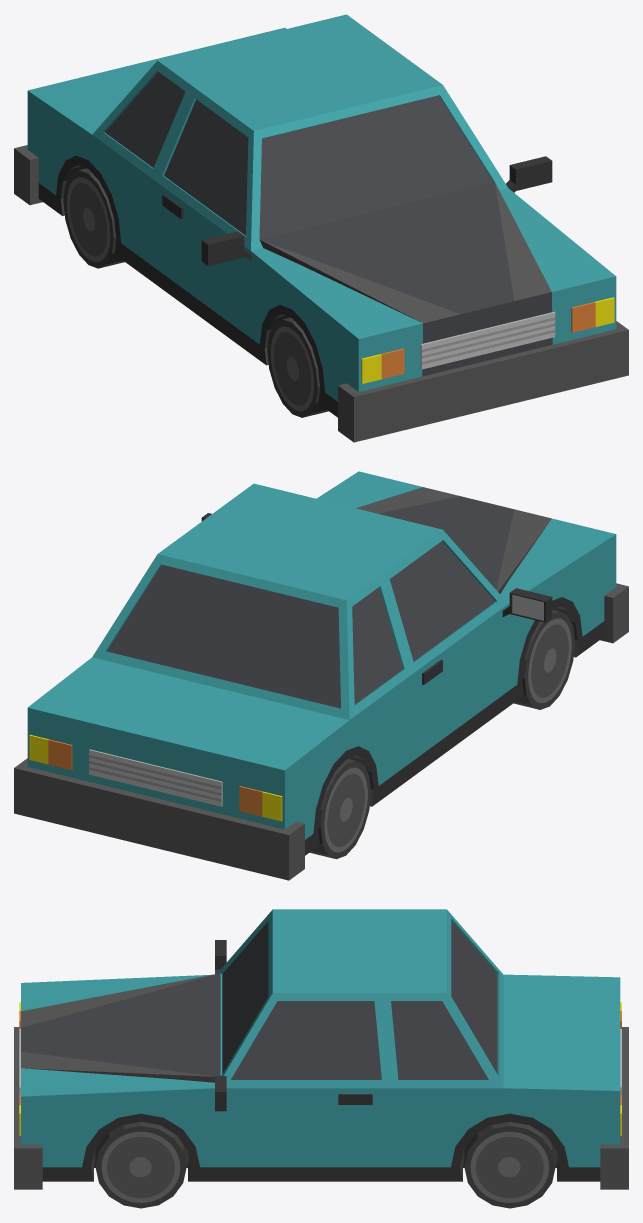
File: car02_color02.fbx
The picture shows the model from 3 angles, top to bottom: view 1: azimuth 30°, elevation 25°; view 2: azimuth 150°, elevation 25°; view 3: azimuth 270°, elevation 25°; orthographic projection. The views are drawn at different scales.
Visible parts, largest first — view 1: Cube.499, Cube.503, Cube.500; view 2: Cube.499, Cube.503, Cube.500; view 3: Cube.499, Cube.502, Cube.501.
Boxes of the visible parts, x1=… form: Cube.499: x1=14, y1=14, x2=628, y2=442; Cube.503: x1=63, y1=168, x2=124, y2=268; Cube.500: x1=267, y1=317, x2=328, y2=417; Cube.499: x1=14, y1=471, x2=628, y2=880; Cube.503: x1=310, y1=759, x2=371, y2=859; Cube.500: x1=513, y1=610, x2=574, y2=709; Cube.499: x1=14, y1=909, x2=628, y2=1189; Cube.502: x1=95, y1=1121, x2=186, y2=1208; Cube.501: x1=464, y1=1122, x2=555, y2=1208.
Size of the model in its own units: 267 by 165 by 457.
